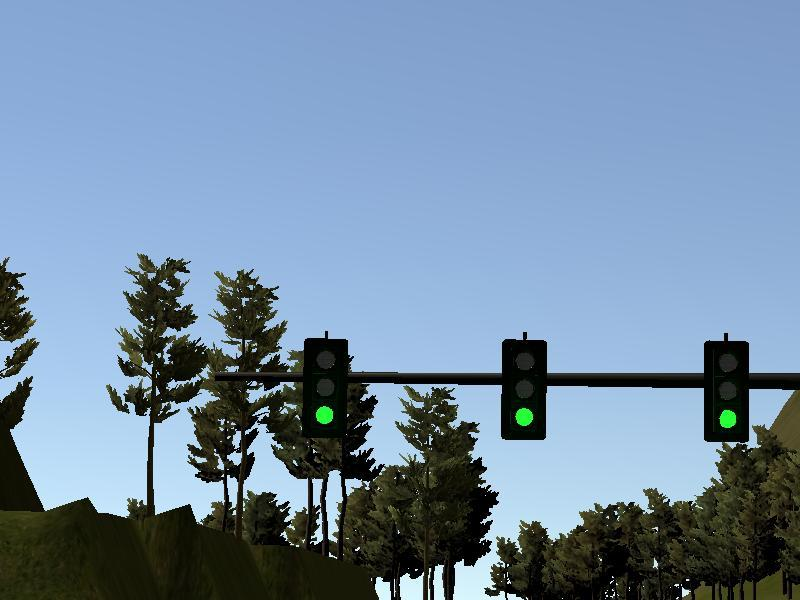Green: (707, 341, 747, 443), (501, 342, 543, 436), (306, 342, 346, 435)
